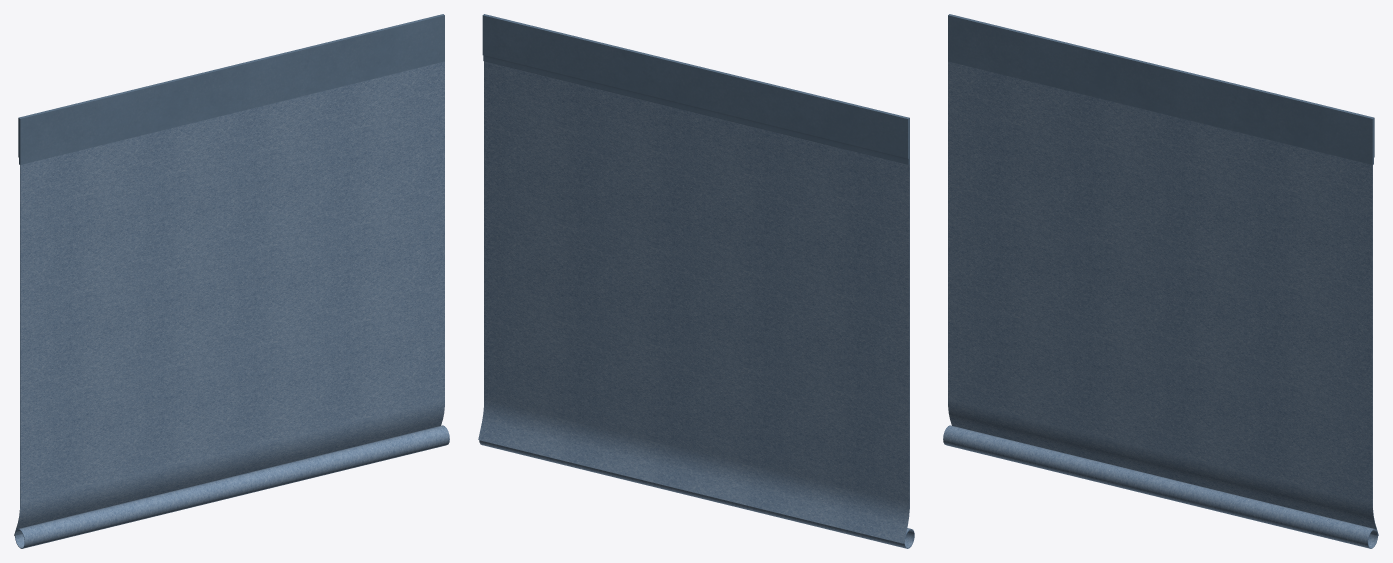
Rendered from romanShadesSimple.glb.
3 views of the same model, side by side, from view 1: azimuth 30°, elevation 25°; view 2: azimuth 150°, elevation 25°; view 3: azimuth 330°, elevation 25° (orthographic).
Visible parts, largest first — view 1: polySurface4, polySurface3, polySurface2; view 2: polySurface4, polySurface3, polySurface2; view 3: polySurface4, polySurface3, polySurface2.
Part boxes in pixels (box(x1,y1,x2,y2)): polySurface4: box(14, 61, 444, 535); polySurface3: box(18, 14, 444, 164); polySurface2: box(15, 425, 449, 548); polySurface4: box(478, 61, 909, 543); polySurface3: box(482, 14, 909, 164); polySurface2: box(479, 440, 914, 548); polySurface4: box(948, 61, 1378, 535); polySurface3: box(948, 14, 1374, 164); polySurface2: box(943, 425, 1377, 548).
Size of the model in its own units: 46.82 by 45.24 by 2.09.
1 material, 1 textured.
